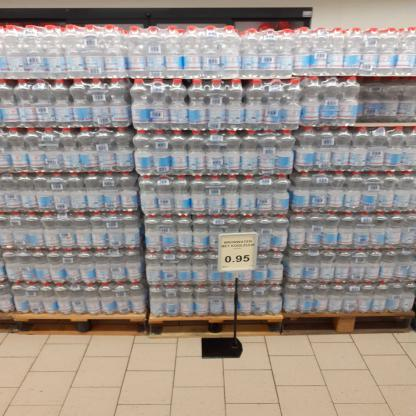prtg: (222, 236, 255, 271)
